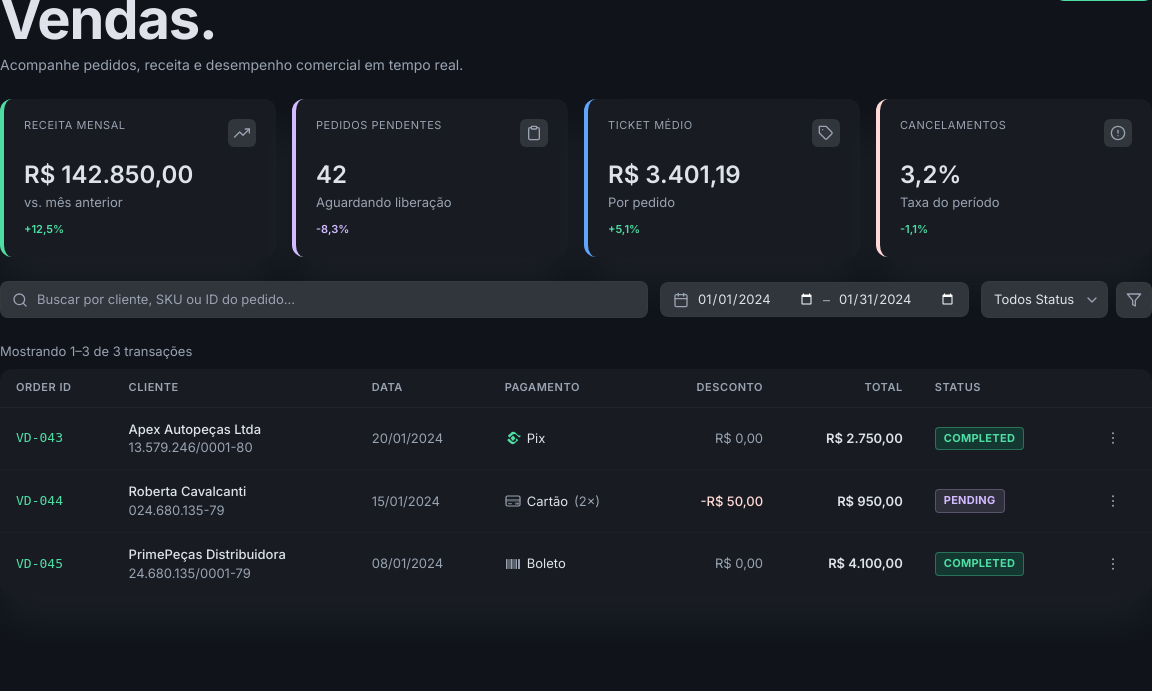
Test: SalesPage — 5.x Paginação (integração) › 5.1 navegar para página 2 altera os registros exibidos
// Expand date range to include all 45 records (5 pages of 10)
Step 1. Type "2024-03-31" into the date field named "Data final" → (897, 300), box [838,290,956,309]
(page scrolled)
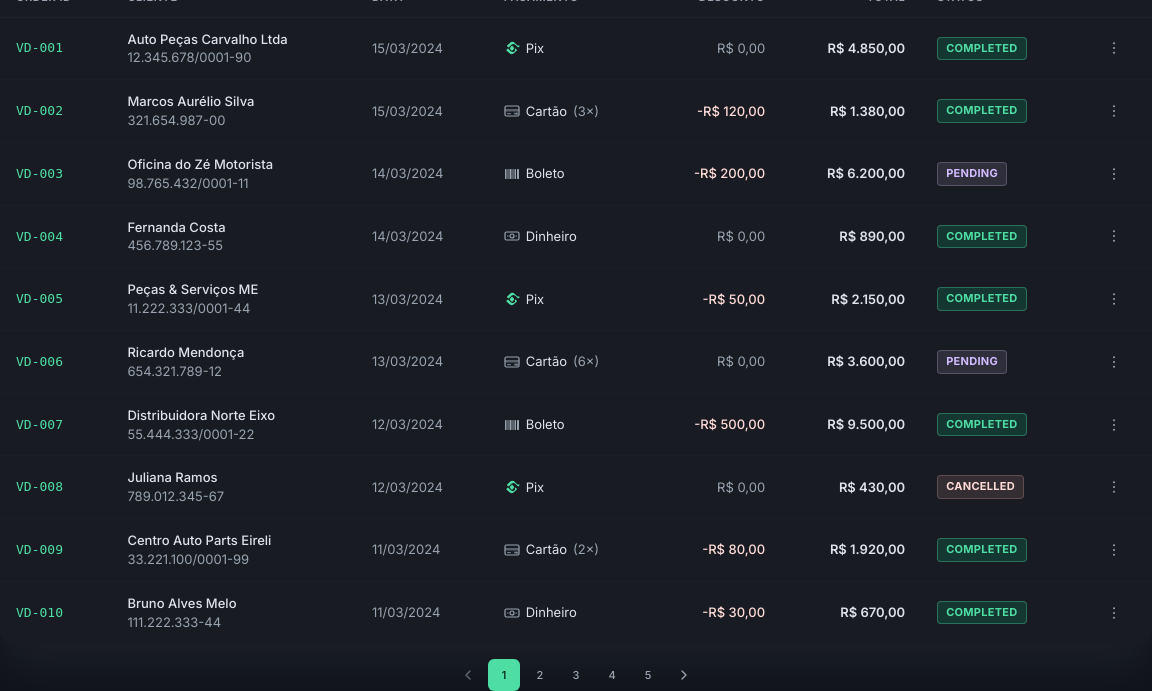
Expected: the text "VD-001" is shown, [16,40,63,56]
// Navigate to page 2
Step 2. Click the button named "Página 2" → (540, 675), box [524,659,556,690]
(page scrolled)
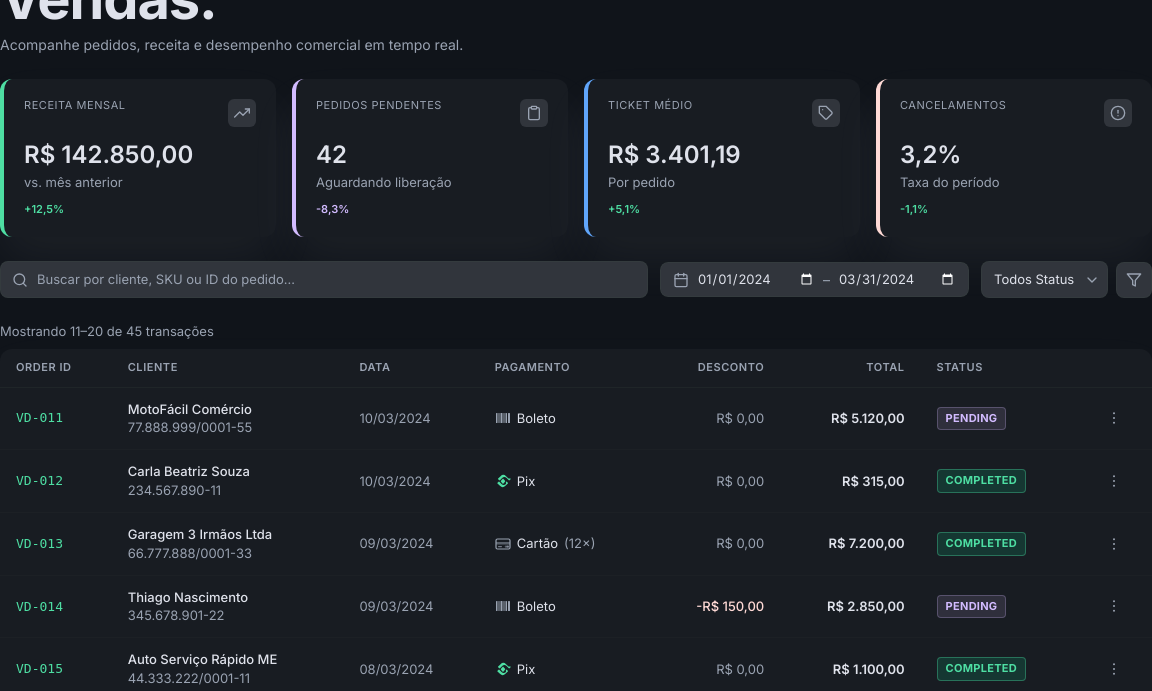
Expected: the text "VD-001" is gone
Expected: the text "Mostrando 11–20 de 45 transações" is shown, [0,323,214,339]
